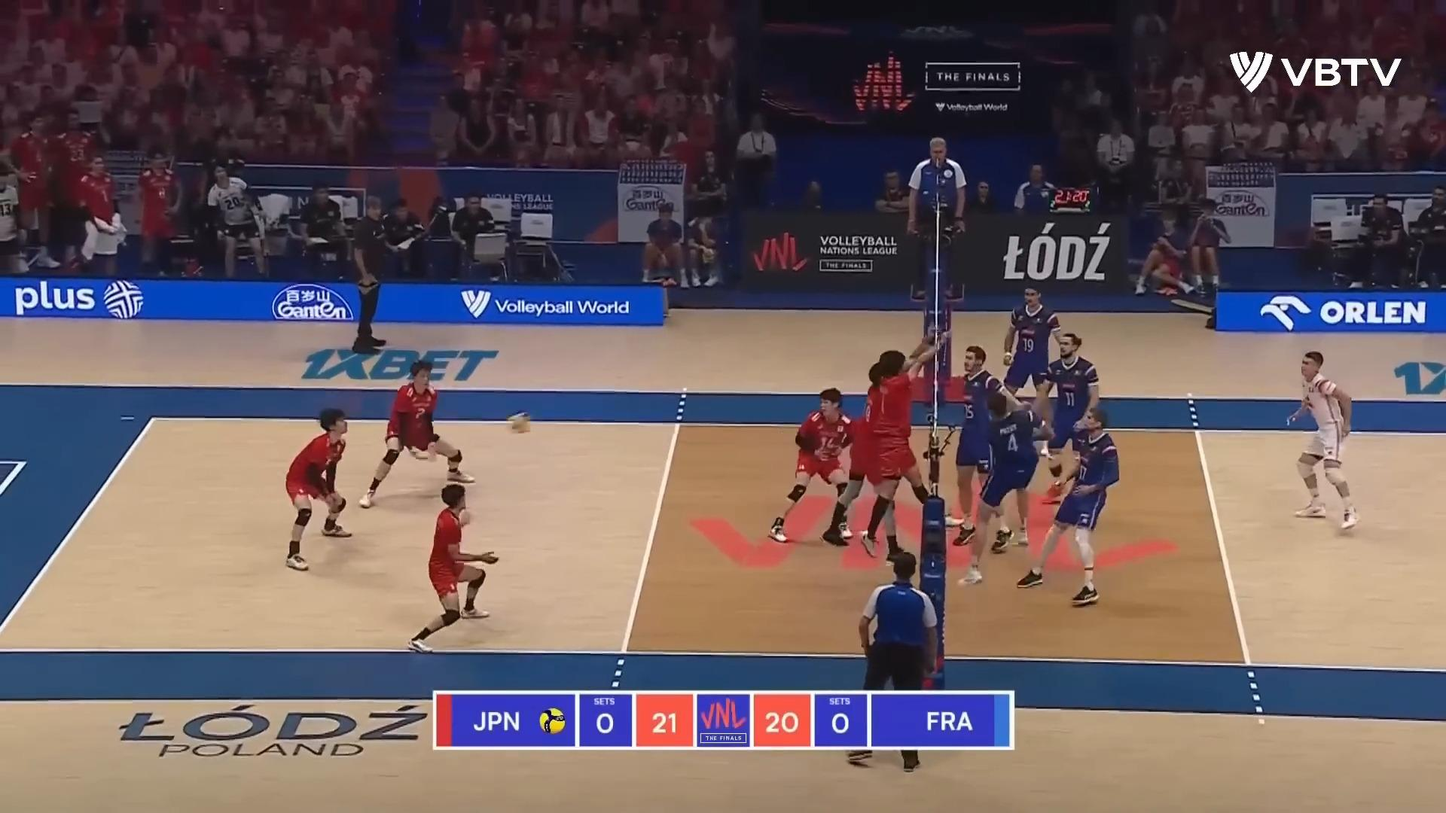ball: (508, 414, 530, 434)
